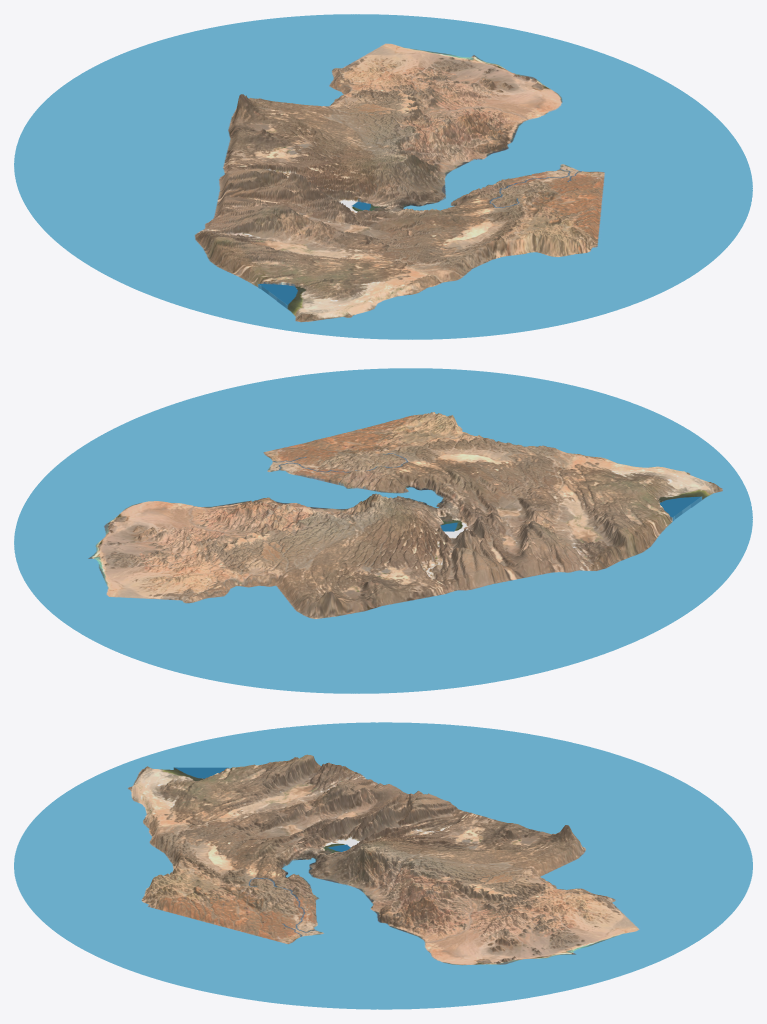
File: DJI-previa-terrain.glb
3 views of the same model, one above another, from view 1: azimuth 30°, elevation 25°; view 2: azimuth 150°, elevation 25°; view 3: azimuth 270°, elevation 25° (orthographic). The views are drawn at different scales.
Parts seen in each view (by area): view 1: Djibouti; view 2: Djibouti; view 3: Djibouti.
Part boxes in pixels (x1,y1,x2,y2): Djibouti: [14, 14, 752, 339]; Djibouti: [14, 368, 752, 693]; Djibouti: [14, 722, 752, 1009].
Bounding box in the file's own units: 2.33 × 0.1013 × 2.54.
Materials: 1 (1 with a texture image).
